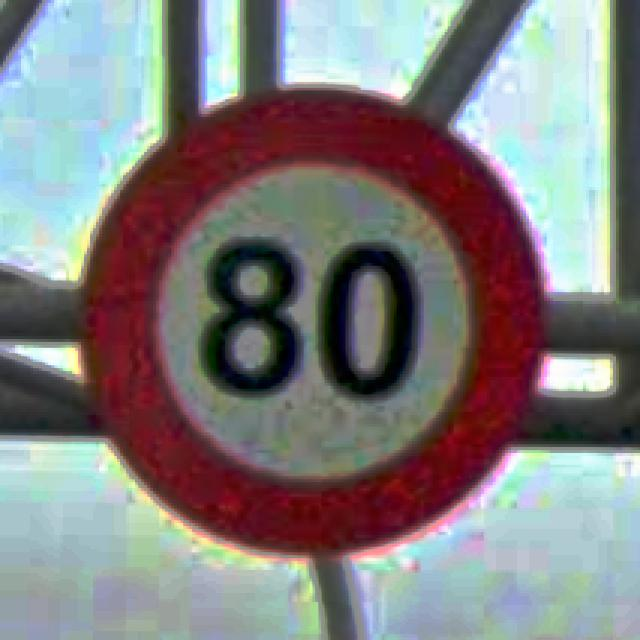max80: (72, 82, 550, 558)
